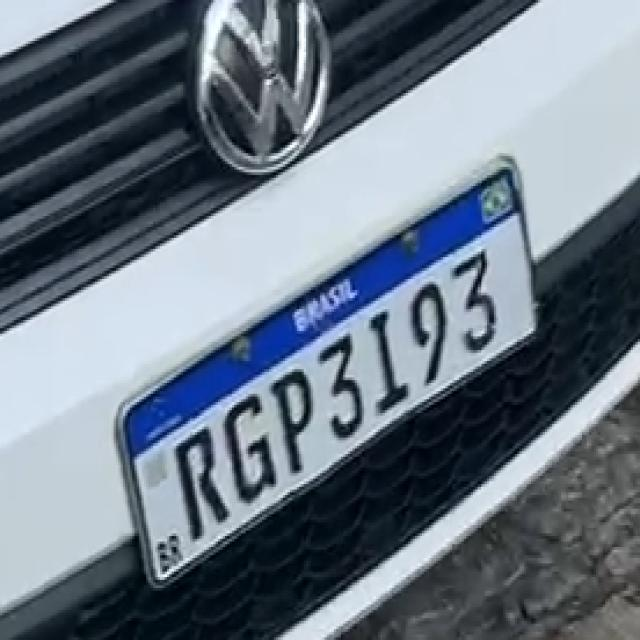Placa_mercosul_carro: (125, 168, 535, 579)
